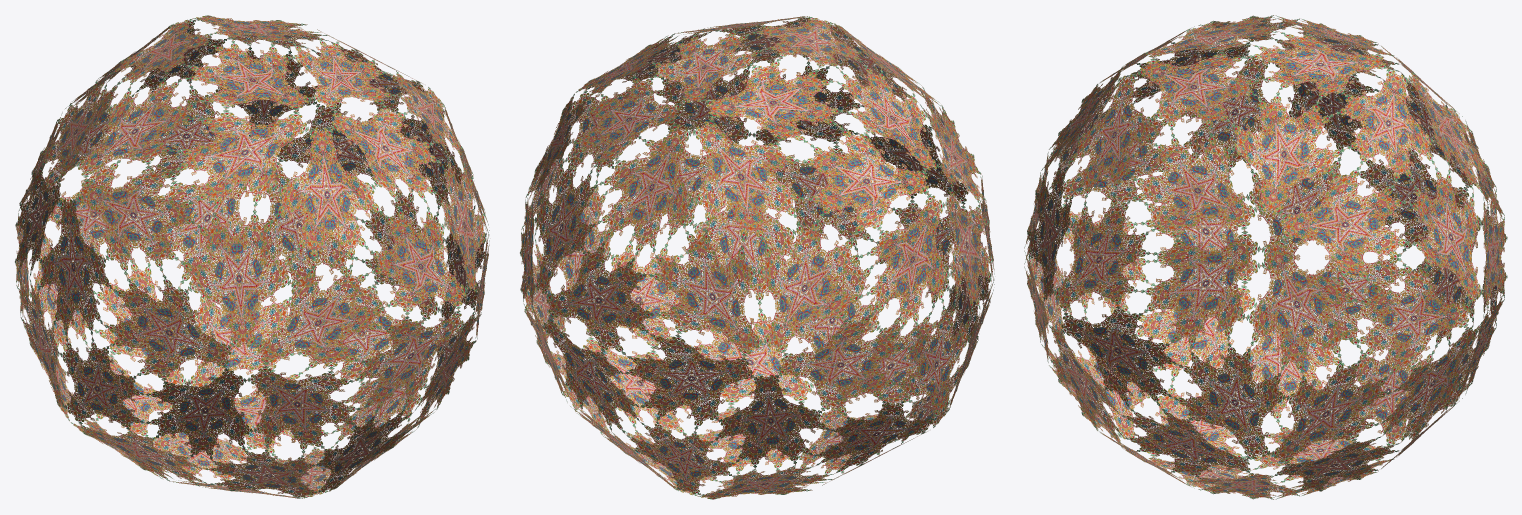
Rendered from PentagonalHexecontahedron4.obj.
3 renders of one model, left to right at view 1: azimuth 30°, elevation 25°; view 2: azimuth 150°, elevation 25°; view 3: azimuth 270°, elevation 25°, orthographic.
Size of the model in its own units: 4.19 by 4.19 by 4.19.
1 material, 1 textured.
